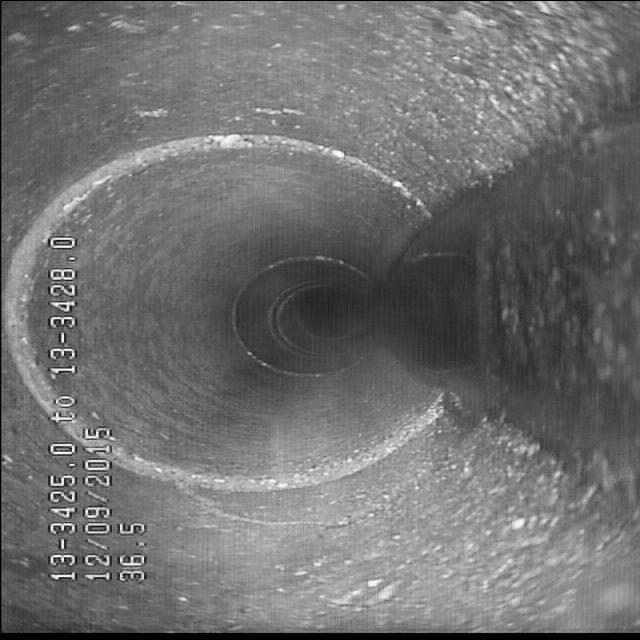Crack: (176, 468, 366, 544)
